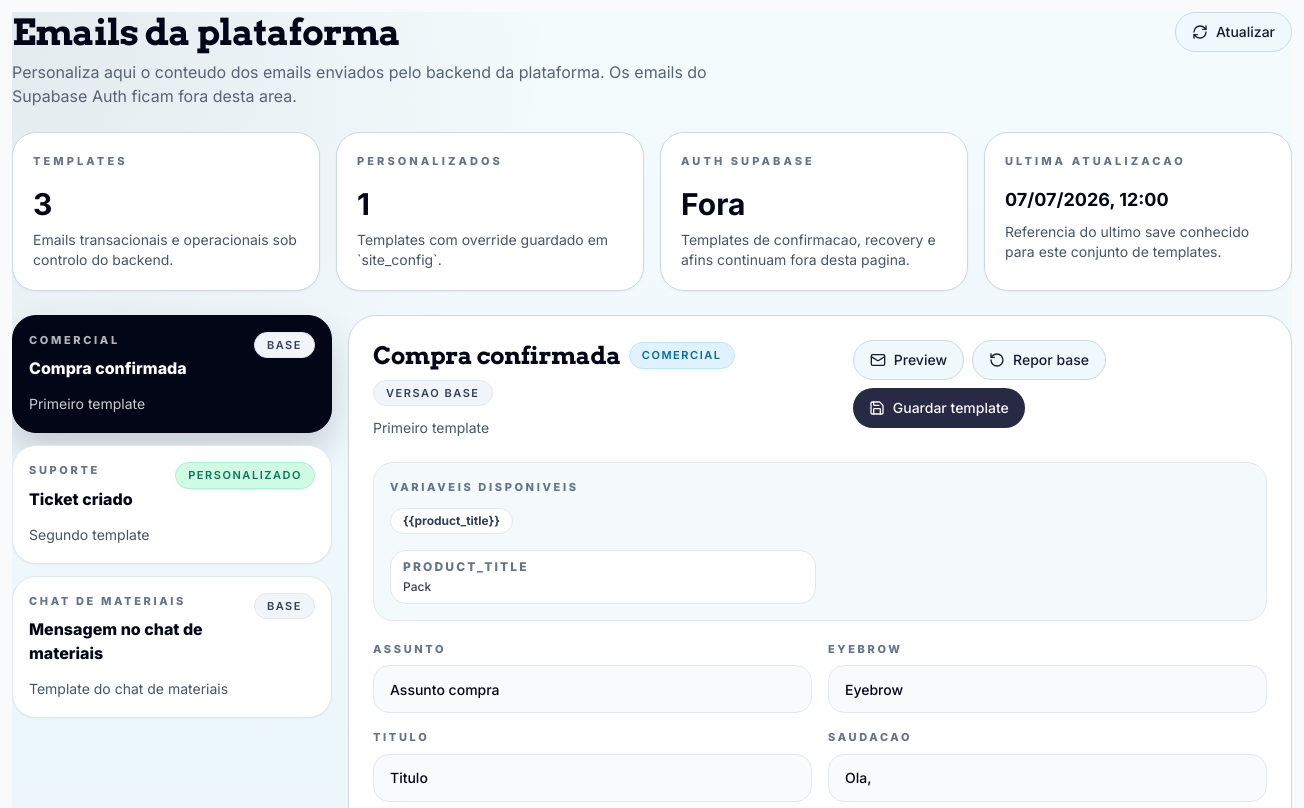
it: AdminEmails › switches the editor fields when another template is selected
This screenshot has width=1304, height=808.
expect the field showing "Assunto compra" is shown: met, box [373, 665, 812, 713]
Click the button "Suporte Ticket criado Personalizado Segundo template": (64, 470) [12, 445, 332, 564]
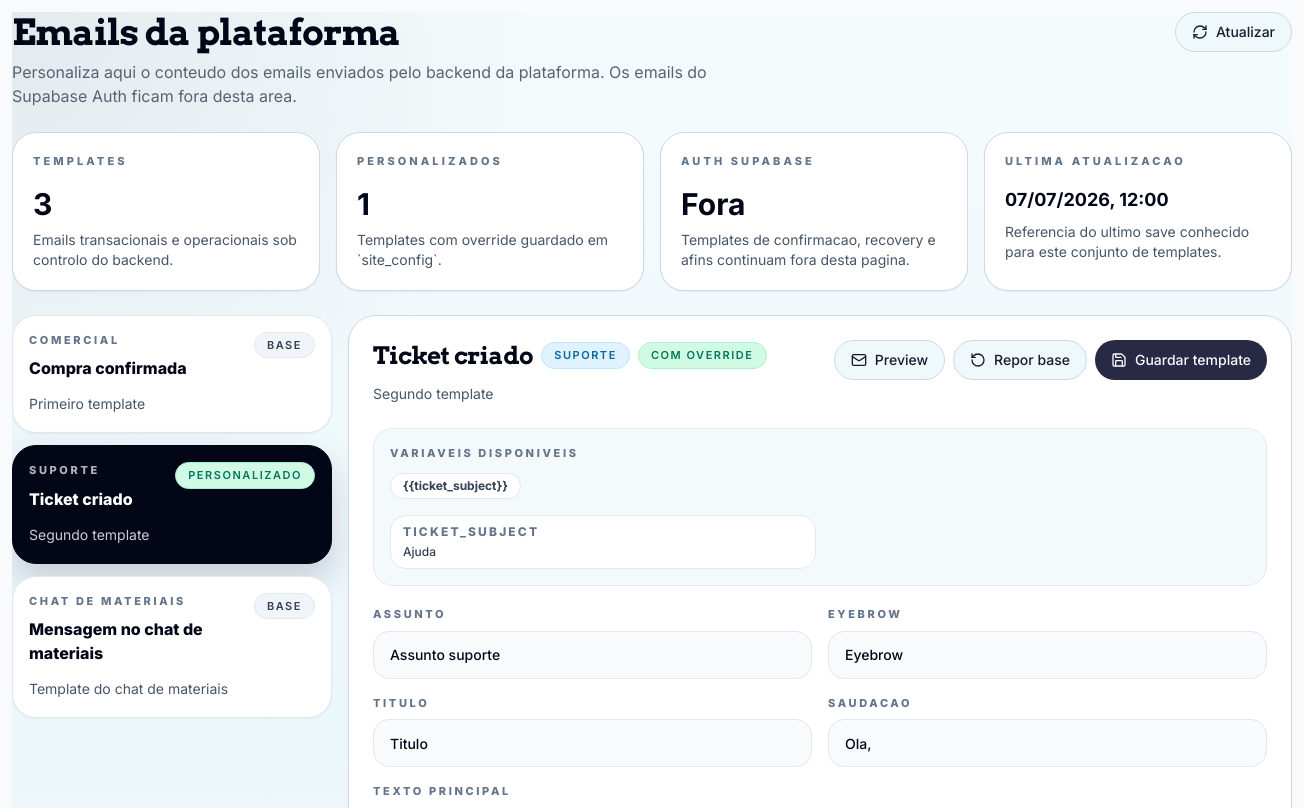
expect the field showing "Assunto suporte" is shown: met, box [373, 630, 812, 678]
